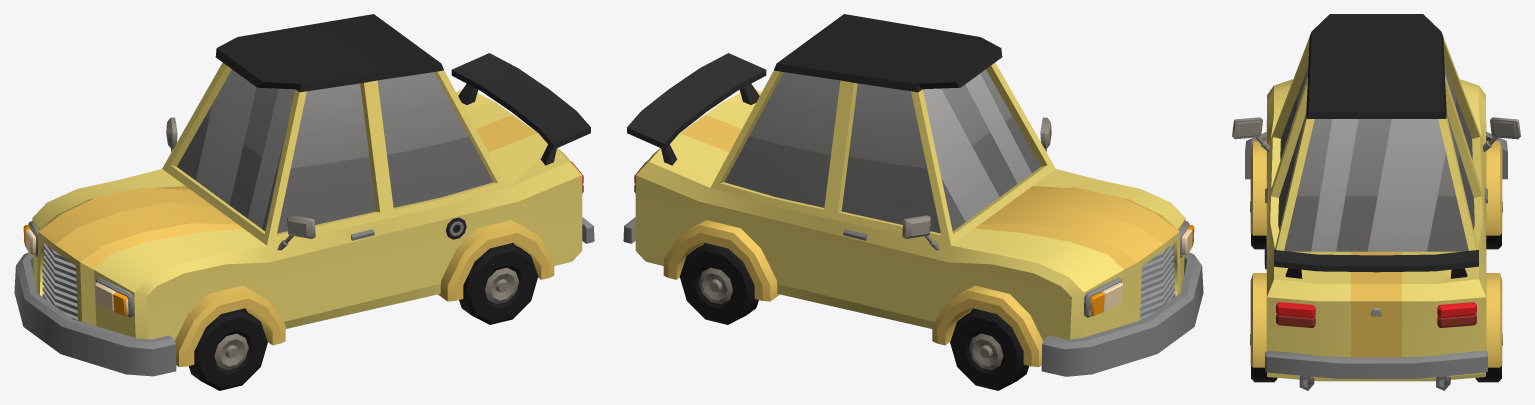
File: Car_2_R.gltf
3 renders of one model, left to right at view 1: azimuth 30°, elevation 25°; view 2: azimuth 150°, elevation 25°; view 3: azimuth 270°, elevation 25°, orthographic.
Visible parts, largest first — view 1: Car_2_R, RL, FL; view 2: Car_2_R, RR, FR; view 3: Car_2_R, RL, RR.
Boxes of the visible parts, x1,y1,x2,y2 form: Car_2_R: (14,14,594,376); RL: (459,243,538,324); FL: (188,309,267,390); Car_2_R: (623,14,1203,376); RR: (679,243,758,324); FR: (950,309,1029,390); Car_2_R: (1232,14,1520,390); RL: (1250,334,1277,382); RR: (1475,334,1502,382).
Bounding box in the file's own units: 3.64 × 1.8 × 1.78.
4 materials, 4 textured.
